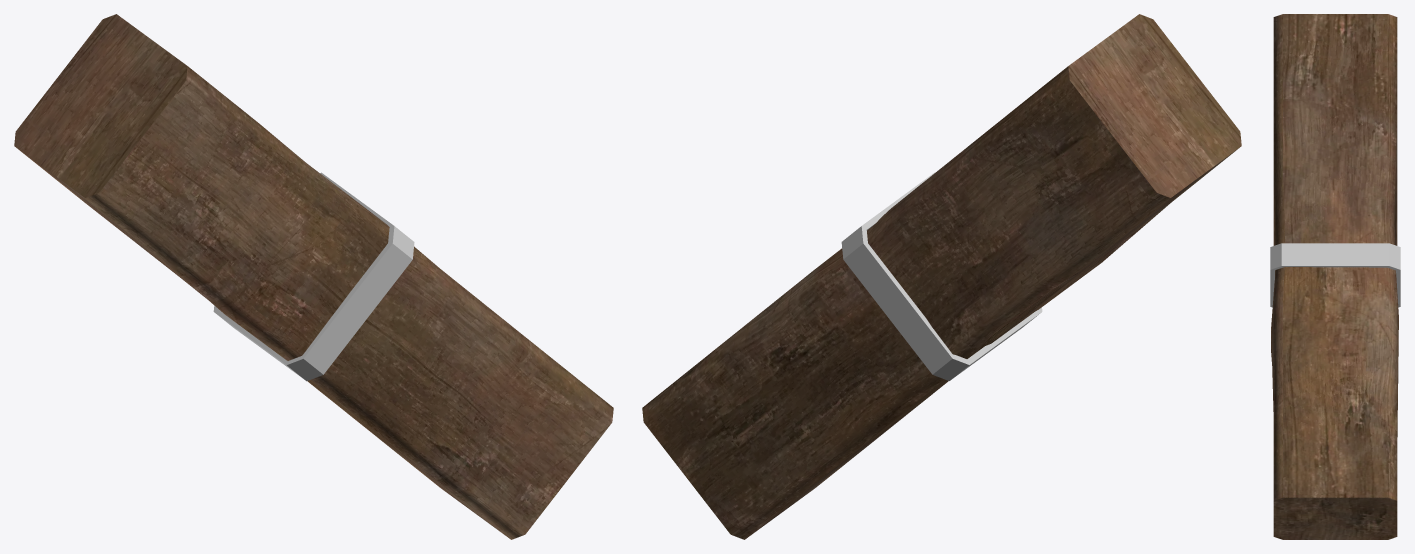
3 views of the same model, side by side, from view 1: azimuth 30°, elevation 25°; view 2: azimuth 150°, elevation 25°; view 3: azimuth 270°, elevation 25° (orthographic). The views are drawn at different scales.
Visible parts, largest first — view 1: SM_BB_T3_Extended_Beam_Thick_Med_Diagonal_LOD0; view 2: SM_BB_T3_Extended_Beam_Thick_Med_Diagonal_LOD0; view 3: SM_BB_T3_Extended_Beam_Thick_Med_Diagonal_LOD0.
Part boxes in pixels (<box>): SM_BB_T3_Extended_Beam_Thick_Med_Diagonal_LOD0: <box>14,14,613,539</box>; SM_BB_T3_Extended_Beam_Thick_Med_Diagonal_LOD0: <box>642,14,1241,539</box>; SM_BB_T3_Extended_Beam_Thick_Med_Diagonal_LOD0: <box>1270,14,1400,539</box>.
Size of the model in its own units: 1.9 by 1.9 by 0.5477.
